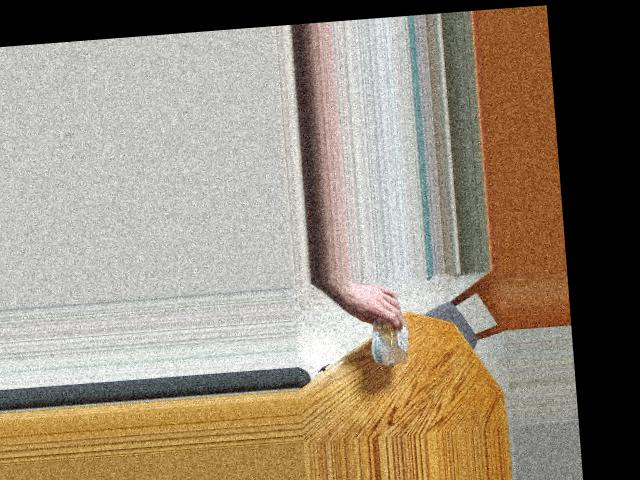cheese: (345, 309, 423, 368)
